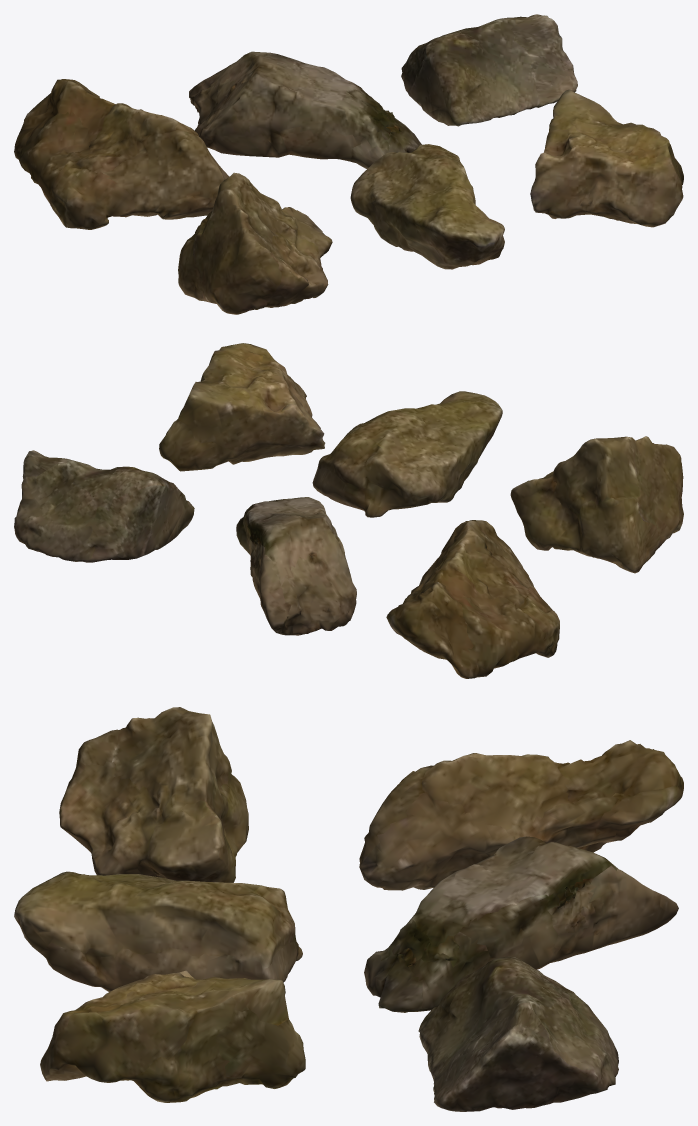
File: rock-moss-set-01.glb
The picture shows the model from 3 angles, top to bottom: view 1: azimuth 30°, elevation 25°; view 2: azimuth 150°, elevation 25°; view 3: azimuth 270°, elevation 25°; orthographic projection. The views are drawn at different scales.
Visible parts, largest first — view 1: rock_moss_set_01_rock01, rock_moss_set_01_rock02, rock_moss_set_01_rock06, rock_moss_set_01_rock04, rock_moss_set_01_rock03, rock_moss_set_01_rock05; view 2: rock_moss_set_01_rock04, rock_moss_set_01_rock01, rock_moss_set_01_rock05, rock_moss_set_01_rock03, rock_moss_set_01_rock06, rock_moss_set_01_rock02; view 3: rock_moss_set_01_rock01, rock_moss_set_01_rock02, rock_moss_set_01_rock05, rock_moss_set_01_rock06, rock_moss_set_01_rock04, rock_moss_set_01_rock03.
Boxes of the visible parts, x1,y1,x2,y2 form: rock_moss_set_01_rock01: (14,79,229,229); rock_moss_set_01_rock02: (189,51,421,168); rock_moss_set_01_rock06: (530,89,683,227); rock_moss_set_01_rock04: (178,172,332,314); rock_moss_set_01_rock03: (401,14,577,126); rock_moss_set_01_rock05: (350,144,504,269); rock_moss_set_01_rock04: (510,436,683,573); rock_moss_set_01_rock01: (386,520,559,678); rock_moss_set_01_rock05: (312,391,502,517); rock_moss_set_01_rock03: (14,450,194,562); rock_moss_set_01_rock06: (159,343,325,471); rock_moss_set_01_rock02: (236,497,356,635); rock_moss_set_01_rock01: (359,740,683,890); rock_moss_set_01_rock02: (364,836,678,1012); rock_moss_set_01_rock05: (14,871,302,991); rock_moss_set_01_rock06: (40,970,305,1102); rock_moss_set_01_rock04: (59,707,248,882); rock_moss_set_01_rock03: (418,956,618,1111).
Size of the model in its own units: 8 by 1.76 by 6.94.
Materials: 1 (1 with a texture image).
